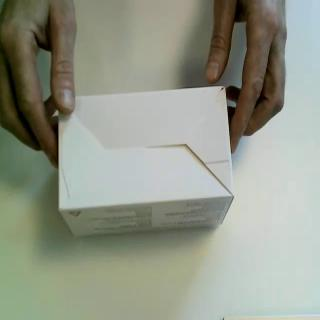levopidon25mg: (57, 85, 237, 240)
